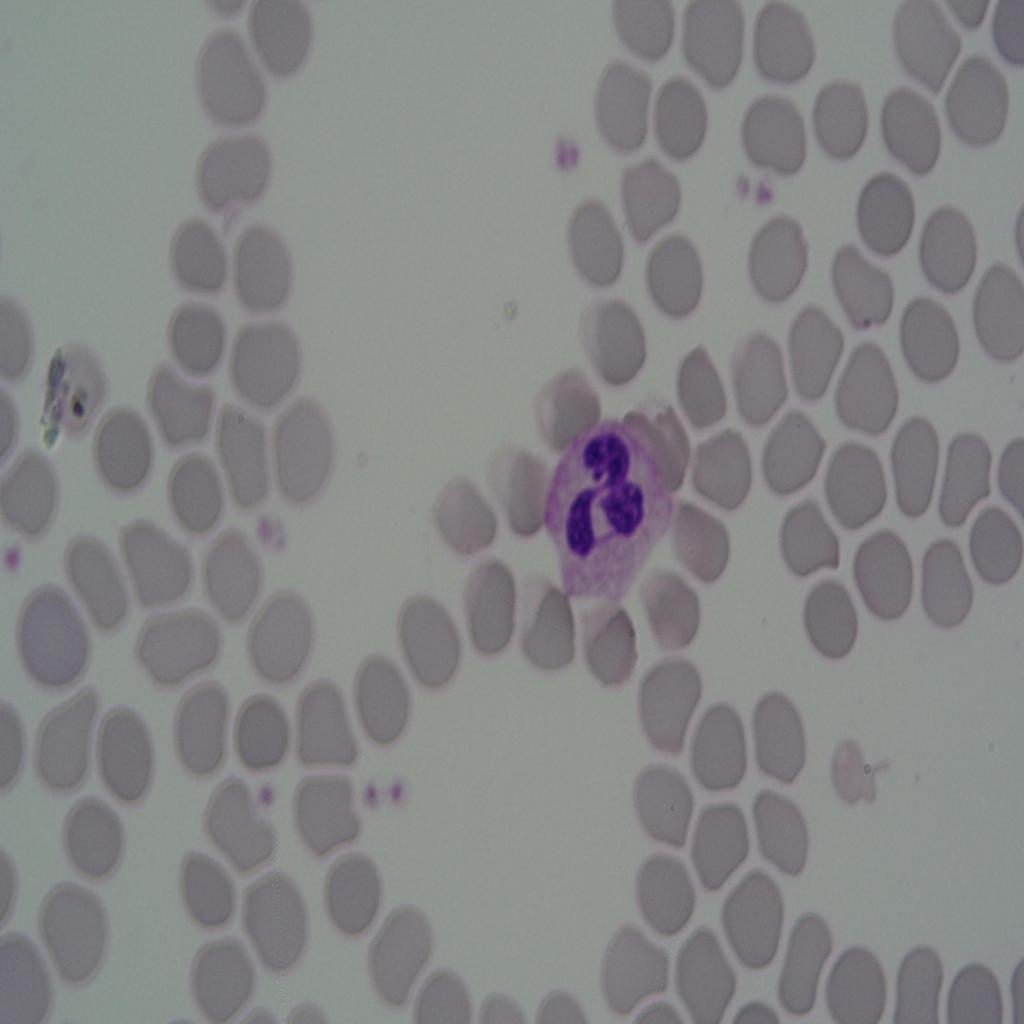Neutrofil: (520, 416, 673, 628)
Platelet: (538, 122, 578, 184), (254, 502, 293, 562), (250, 777, 289, 836), (352, 763, 382, 813), (386, 776, 406, 808), (754, 180, 776, 206)
